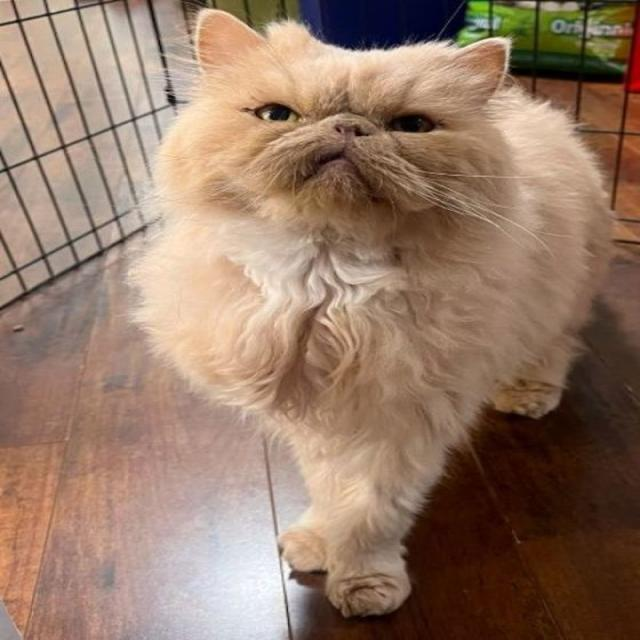persian_cat: (160, 2, 536, 272)
